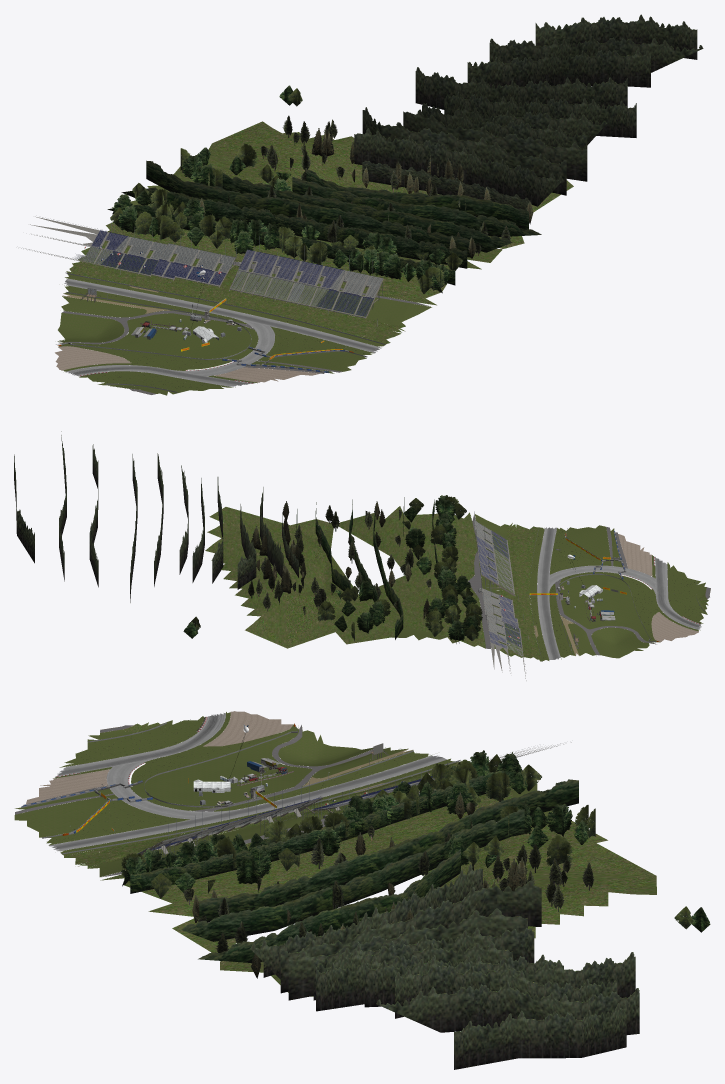
The picture shows the model from 3 angles, top to bottom: view 1: azimuth 30°, elevation 25°; view 2: azimuth 150°, elevation 25°; view 3: azimuth 270°, elevation 25°; orthographic projection. The views are drawn at different scales.
Parts seen in each view (by area): view 1: tile_t11; view 2: tile_t11; view 3: tile_t11.
Part boxes in pixels (x1,y1,x2,y2): tile_t11: (21, 14, 703, 395); tile_t11: (14, 431, 710, 680); tile_t11: (14, 711, 710, 1069).
Bounding box in the file's own units: 657 × 105 × 434.
44 materials, 44 textured.
